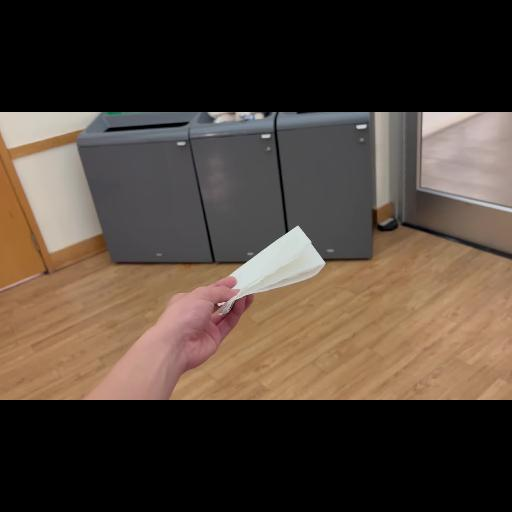napkin: (188, 218, 342, 312)
